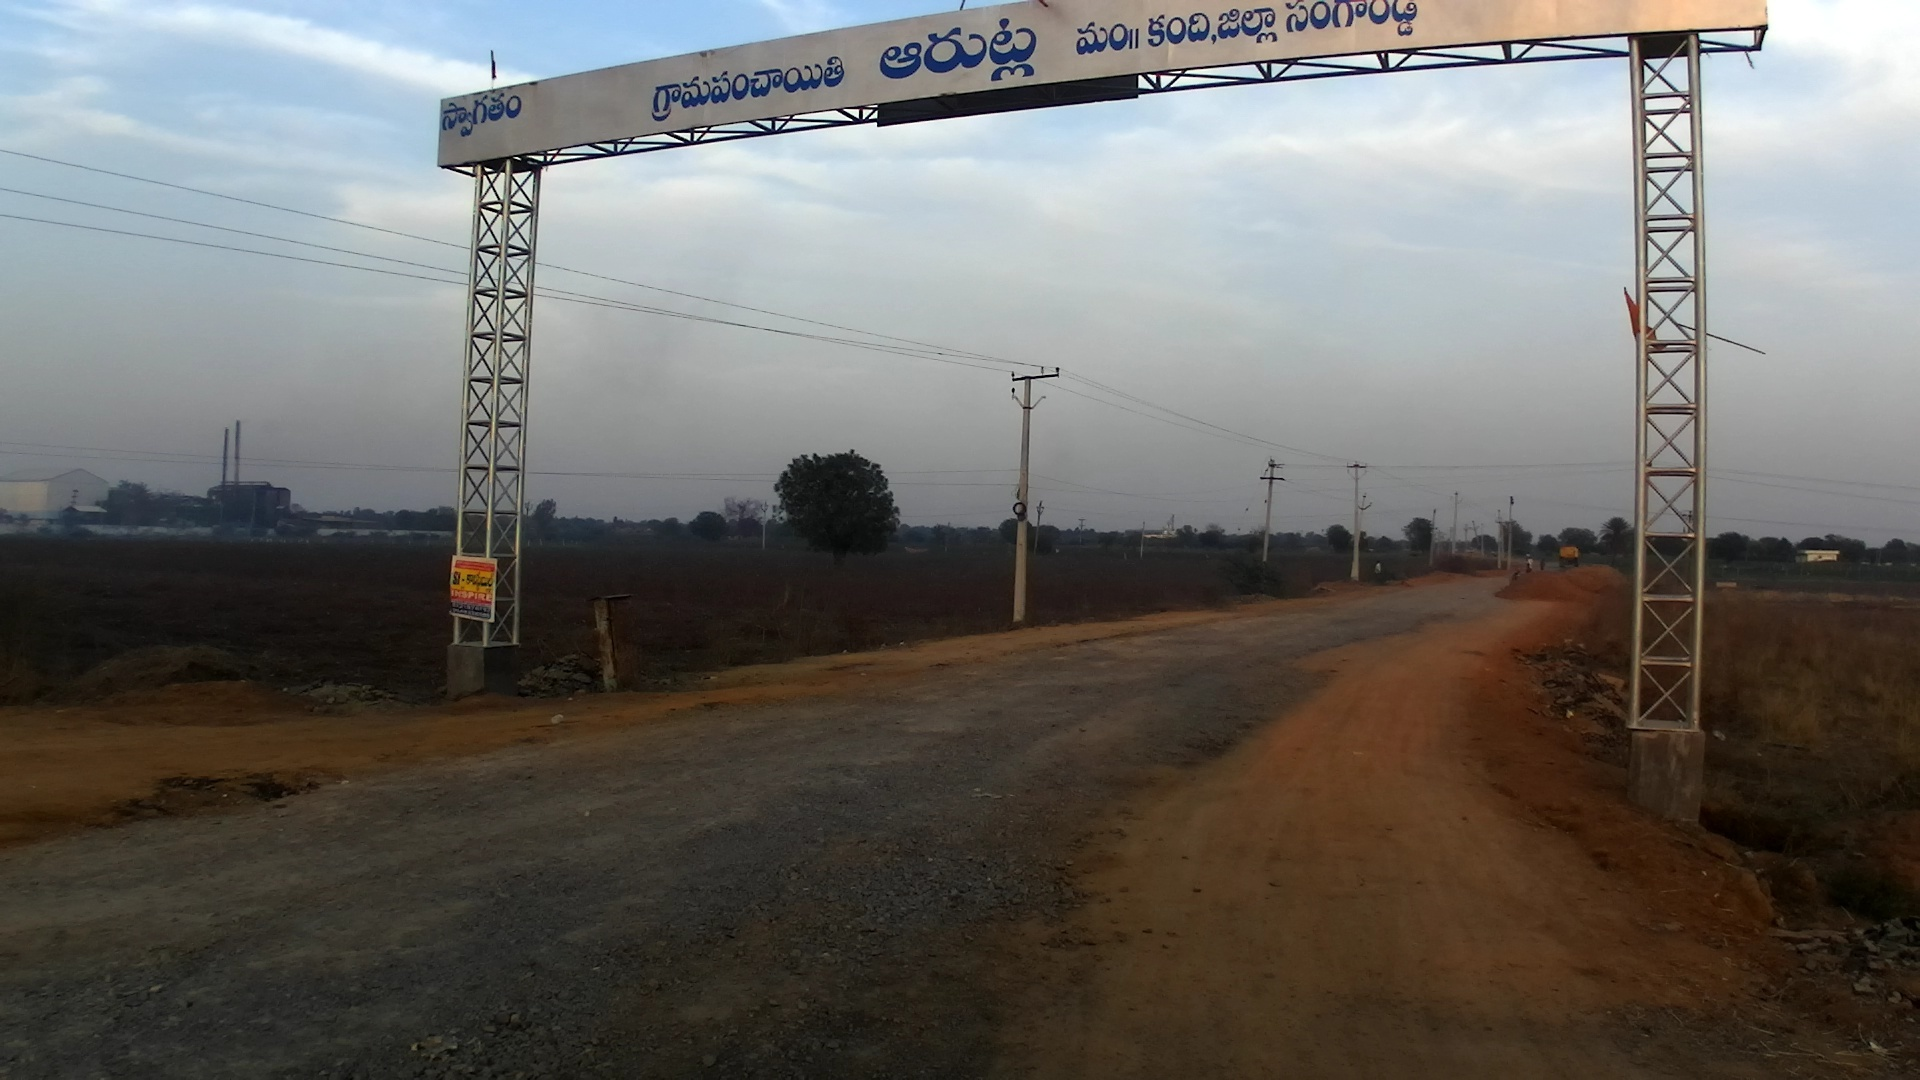person: (1520, 553, 1535, 580), (1372, 559, 1385, 583), (1538, 552, 1549, 572)
truck: (1558, 539, 1583, 572)
